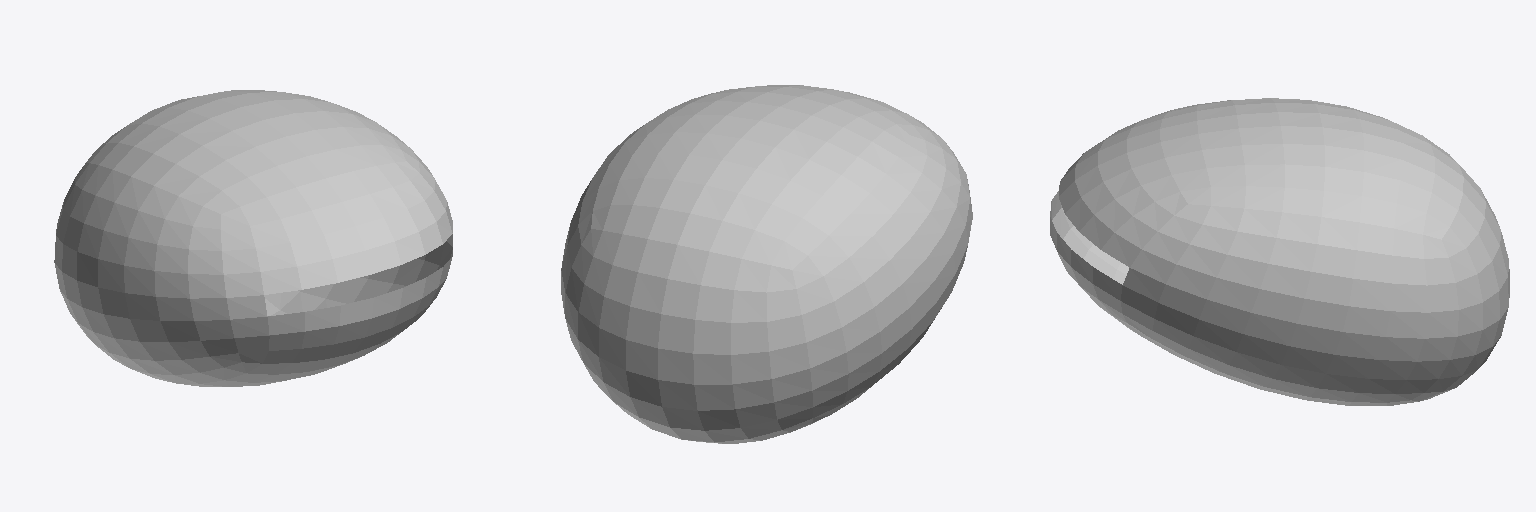
Rendered from Cobra-cabeca.obj.
The picture shows the model from 3 angles: view 1: azimuth 30°, elevation 25°; view 2: azimuth 150°, elevation 25°; view 3: azimuth 270°, elevation 25°; orthographic projection.
Visible parts, largest first — view 1: Cobra-cabeca_Cubo.010; view 2: Cobra-cabeca_Cubo.010; view 3: Cobra-cabeca_Cubo.010.
Boxes of the visible parts, <box> form: Cobra-cabeca_Cubo.010: <box>54,90,452,386</box>; Cobra-cabeca_Cubo.010: <box>561,85,972,443</box>; Cobra-cabeca_Cubo.010: <box>1050,98,1509,405</box>.
Bounding box in the file's own units: 0.9353 × 0.7368 × 1.15.